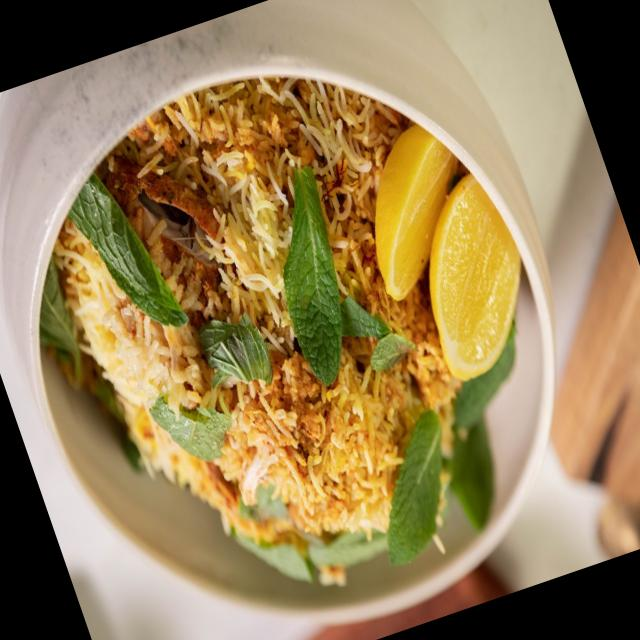Biryani: (13, 9, 605, 640)
